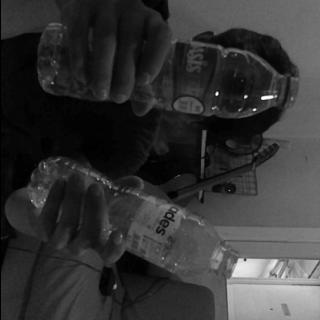plastic_bottles: (42, 26, 296, 120), (36, 160, 236, 278)
